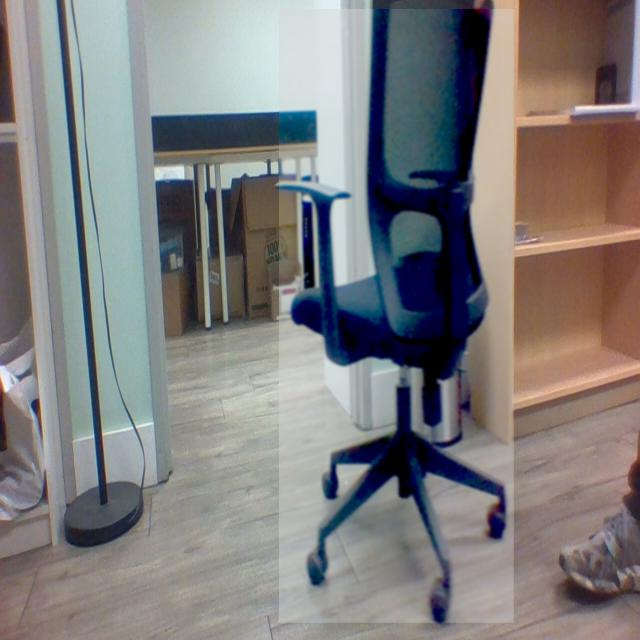black-chair: (279, 9, 515, 624)
